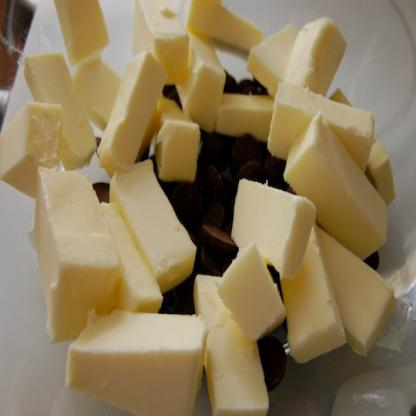butter: (68, 308, 208, 415), (289, 120, 390, 262), (36, 165, 113, 330), (303, 222, 392, 362), (264, 81, 372, 189), (276, 216, 346, 368), (195, 274, 268, 414), (108, 163, 194, 281), (229, 177, 312, 282), (22, 51, 96, 163), (100, 48, 157, 174), (218, 240, 284, 342), (0, 104, 64, 203), (172, 30, 222, 135), (132, 0, 190, 89), (278, 22, 344, 99), (52, 0, 111, 64)
